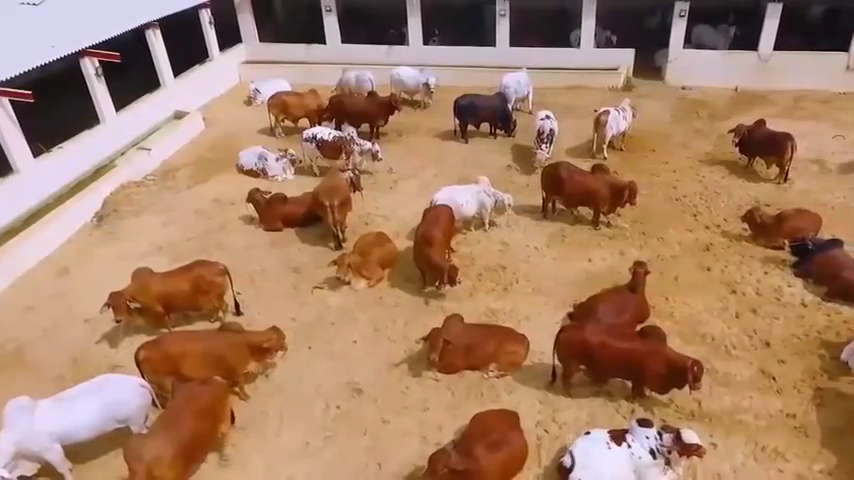bo: (6, 366, 157, 474), (110, 361, 248, 476), (548, 319, 709, 407), (94, 246, 246, 331), (549, 402, 706, 480), (132, 322, 290, 395), (535, 147, 647, 237), (424, 299, 534, 384), (418, 402, 532, 476), (420, 162, 523, 241), (574, 258, 661, 333), (330, 212, 397, 301), (784, 226, 854, 305), (441, 85, 524, 149), (724, 114, 797, 179), (735, 192, 823, 245), (300, 124, 385, 177), (410, 208, 459, 297), (238, 175, 312, 232), (582, 92, 645, 157), (676, 13, 746, 69), (329, 89, 406, 139), (230, 137, 306, 186), (313, 165, 357, 246), (510, 101, 564, 156), (558, 13, 621, 59), (491, 56, 537, 114), (388, 56, 438, 109), (262, 86, 327, 125), (242, 63, 292, 111), (332, 58, 377, 98)
